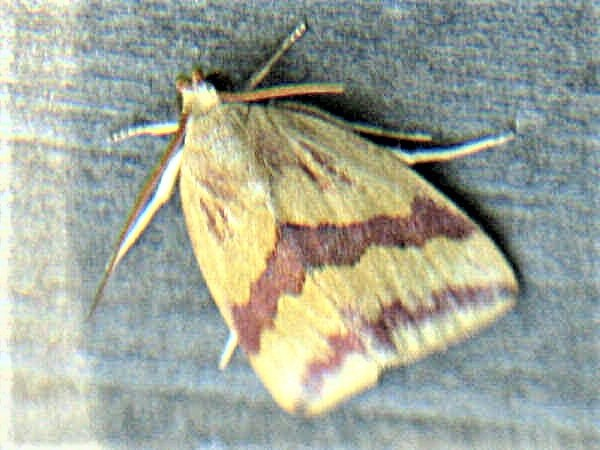Noctuidae: (87, 25, 525, 422)
